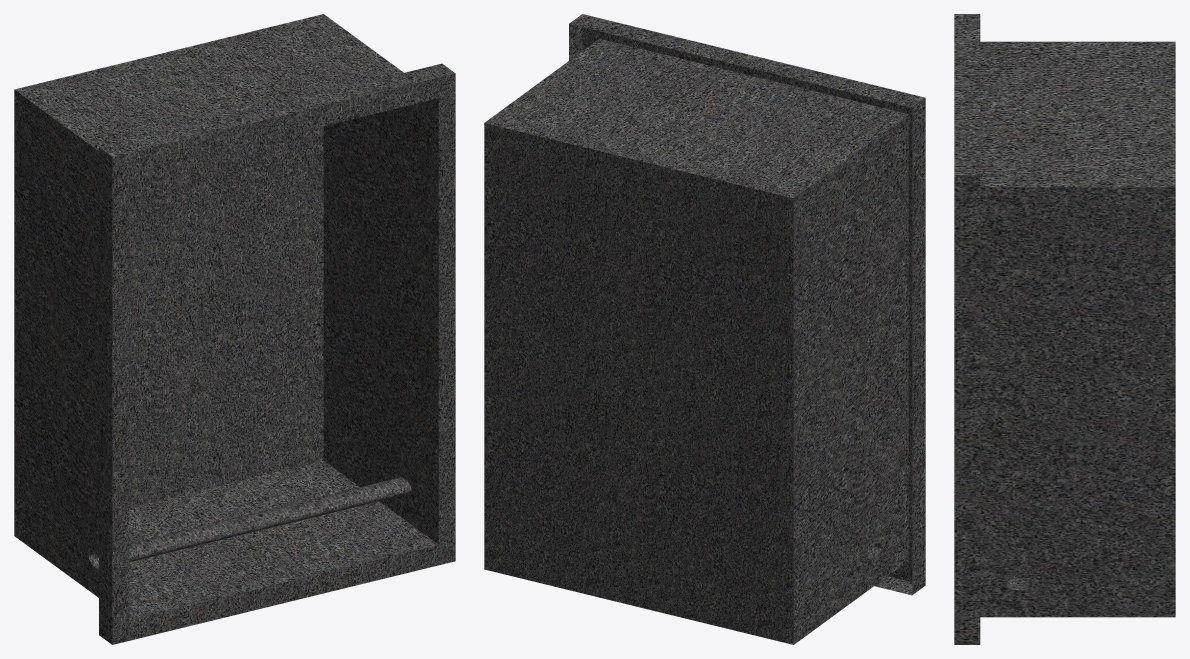
Rendered from wall-niche.glb.
3 renders of one model, left to right at view 1: azimuth 30°, elevation 25°; view 2: azimuth 150°, elevation 25°; view 3: azimuth 270°, elevation 25°, orthographic. The views are drawn at different scales.
Visible parts, largest first — view 1: 3DGeom-1; view 2: 3DGeom-1; view 3: 3DGeom-1.
Part boxes in pixels (left/top/right/bottom): 3DGeom-1: left=14, top=14, right=455, bottom=644; 3DGeom-1: left=484, top=14, right=925, bottom=644; 3DGeom-1: left=954, top=14, right=1175, bottom=644.
Size of the model in its own units: 0.2928 by 0.3976 by 0.17.
1 material, 1 textured.
